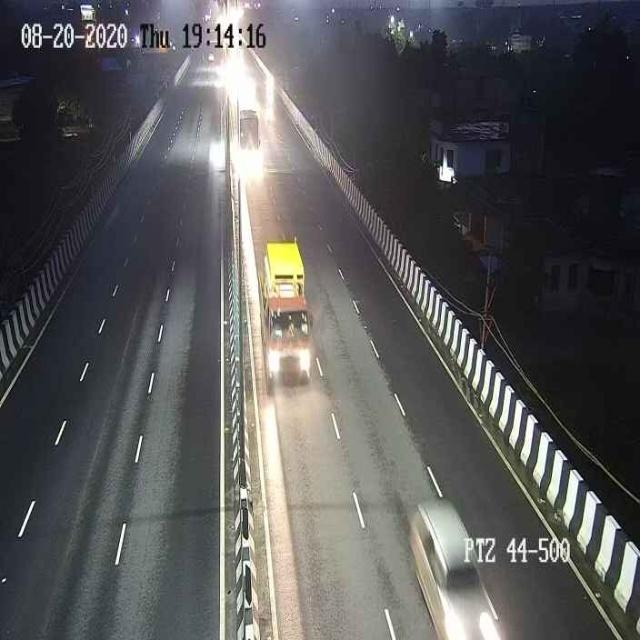car: (404, 493, 494, 638)
